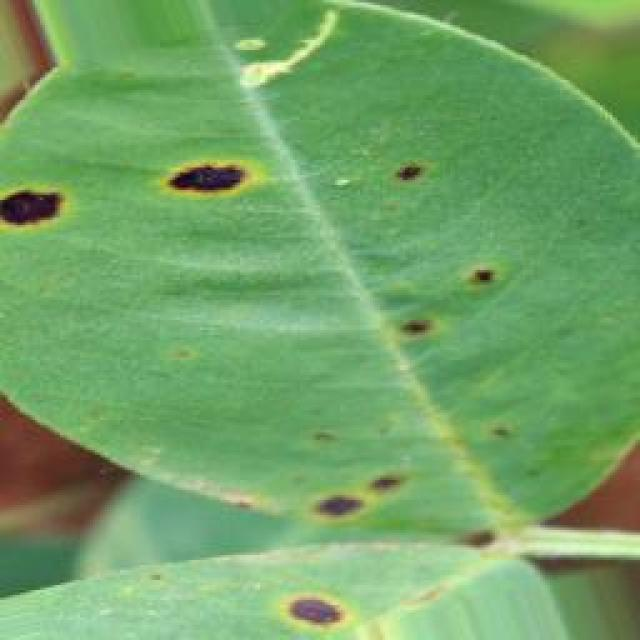Sigatoka: (135, 124, 281, 215), (344, 303, 480, 377), (297, 461, 423, 540), (441, 229, 532, 321), (0, 165, 96, 250), (206, 479, 293, 548), (278, 575, 360, 640), (469, 406, 535, 472), (386, 141, 446, 198)
